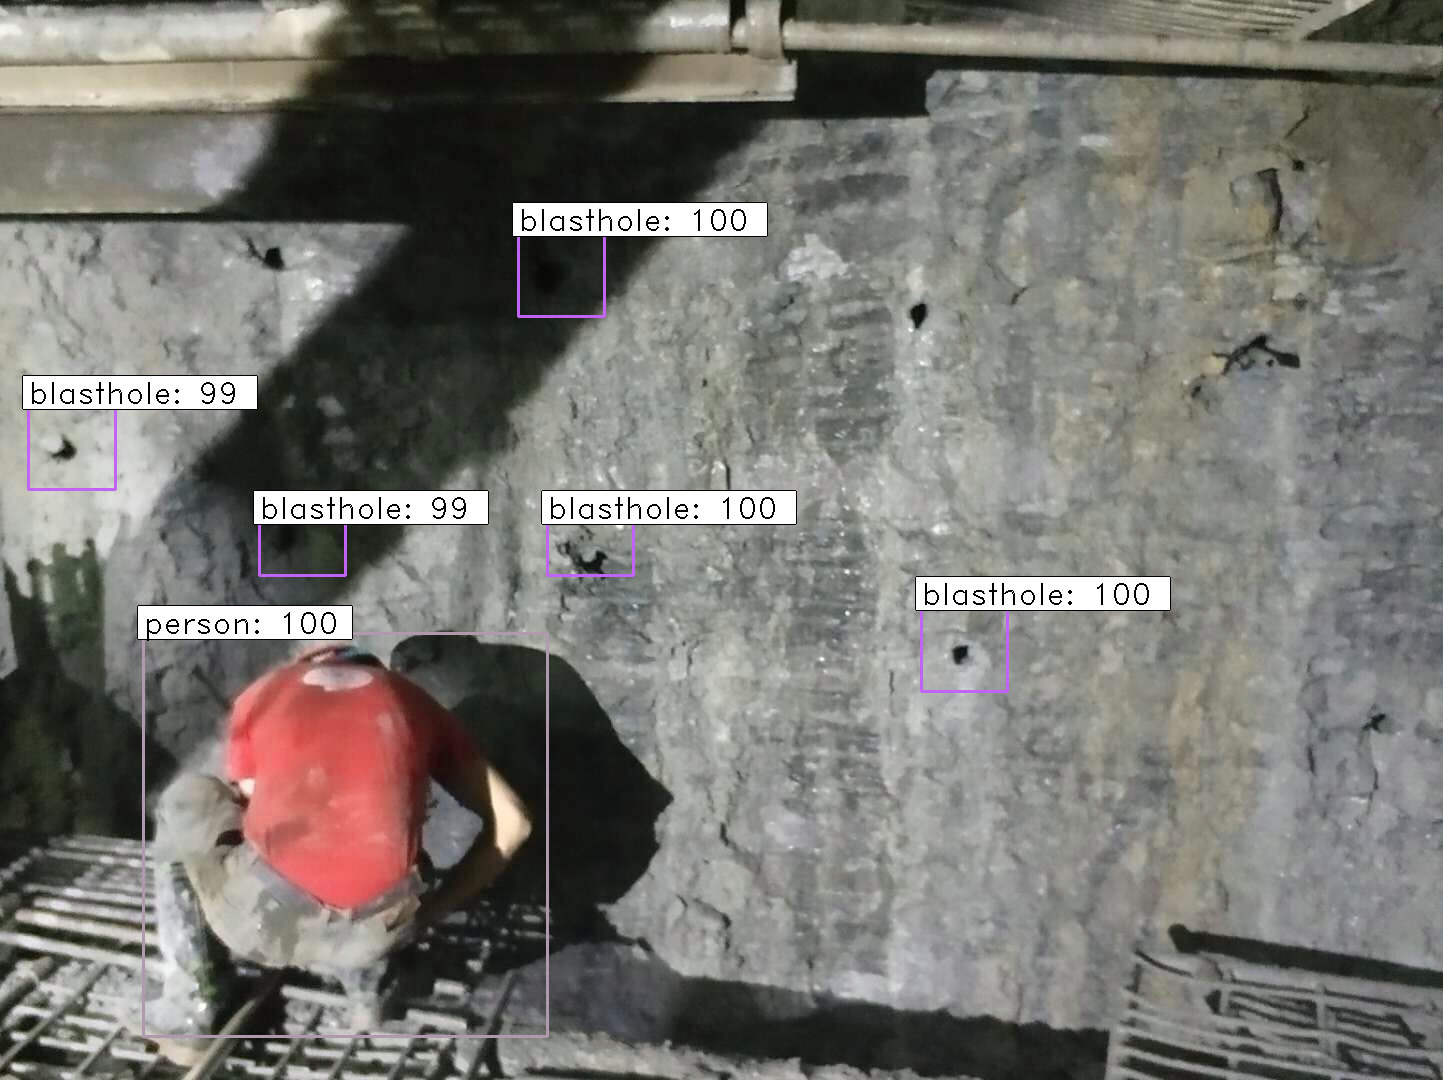blasthole: (498, 226, 605, 333), (914, 607, 1016, 703), (245, 494, 344, 592), (870, 272, 973, 366), (551, 521, 638, 610), (31, 416, 96, 492), (239, 229, 315, 289)
person: (105, 639, 547, 996)
